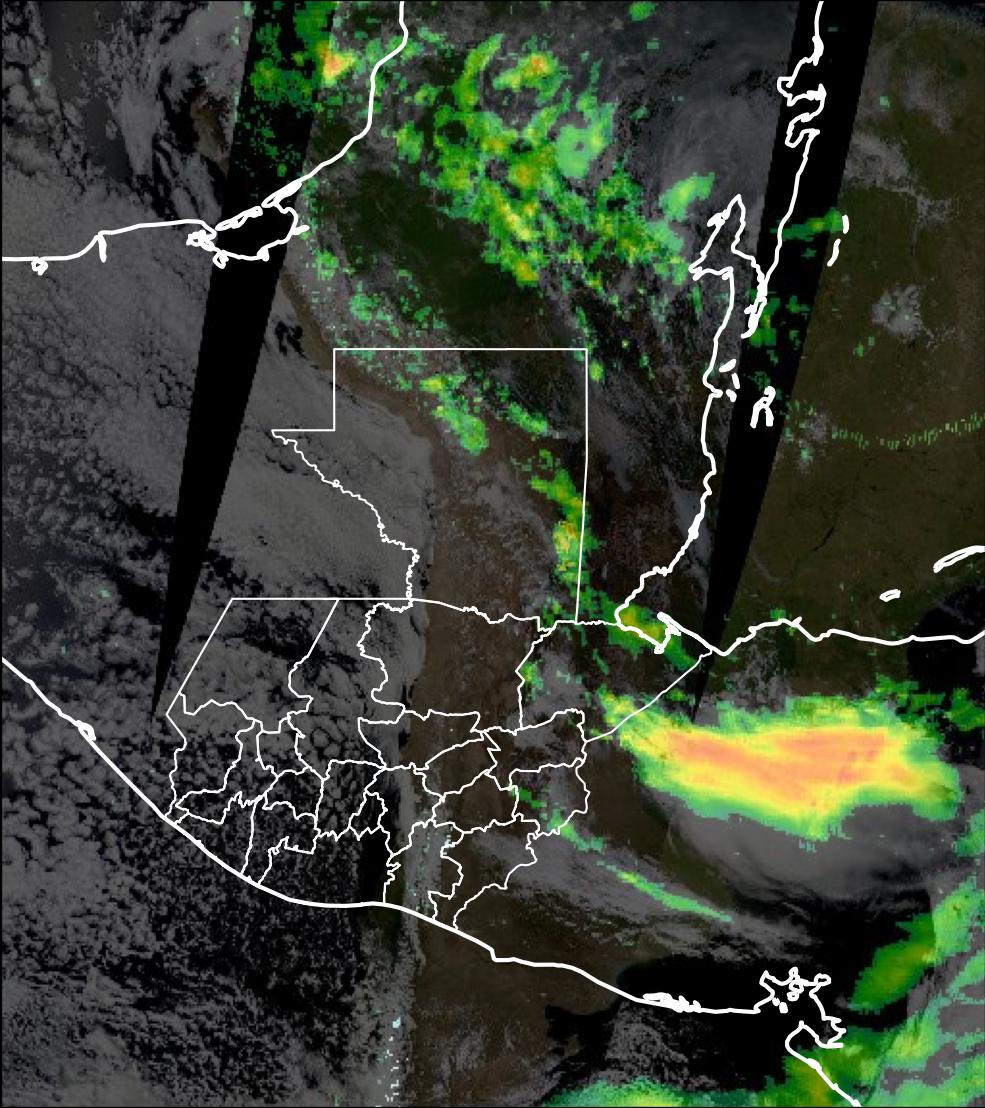precipitacion: (650, 696, 930, 848)
